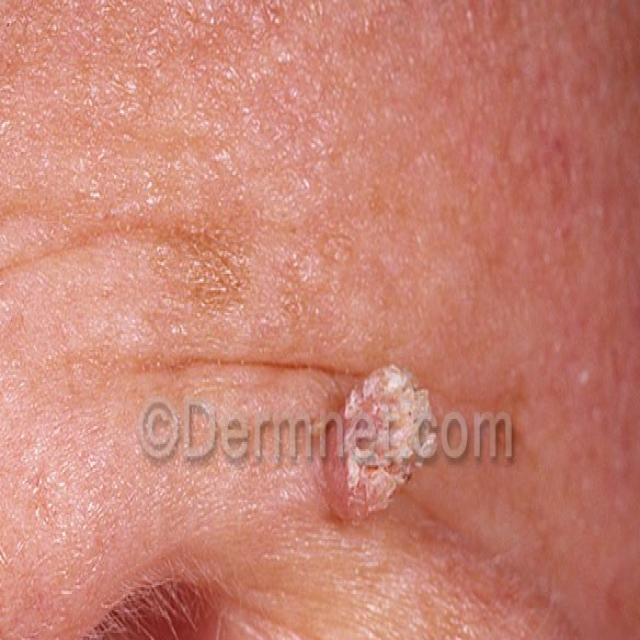Warts: (317, 334, 450, 542)
